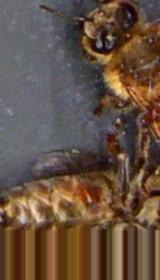varroa_mite: (75, 181, 102, 209)
